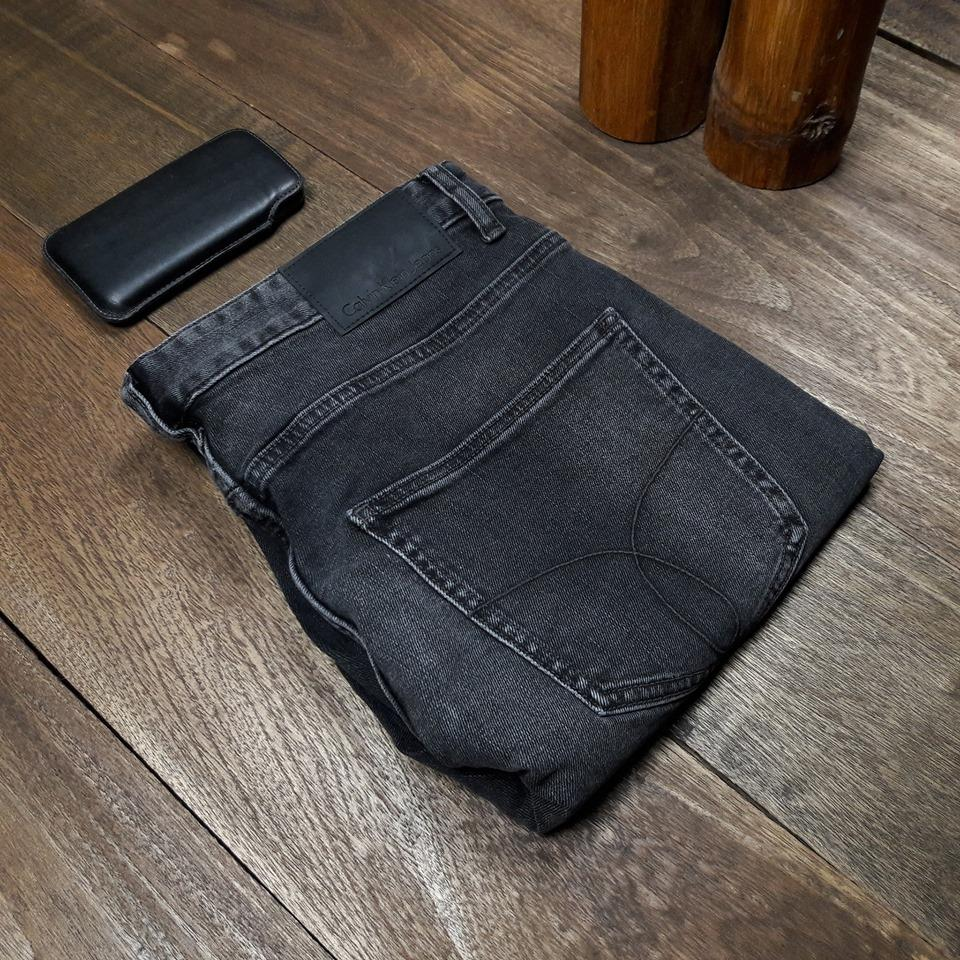Jeans: (109, 144, 886, 841)
